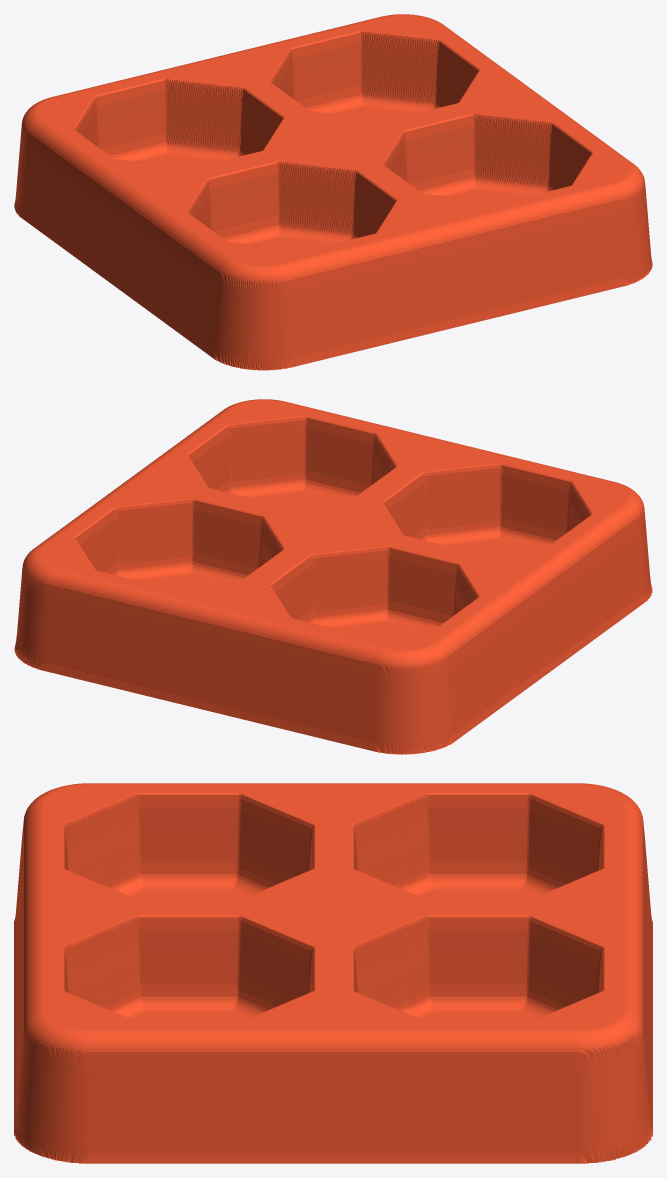
The model's file is mold.glb.
3 renders of one model, top to bottom at view 1: azimuth 30°, elevation 25°; view 2: azimuth 150°, elevation 25°; view 3: azimuth 270°, elevation 25°, orthographic. The views are drawn at different scales.
Parts seen in each view (by area): view 1: geometry_0; view 2: geometry_0; view 3: geometry_0.
Part boxes in pixels (box(x1,y1,x2,y2)): geometry_0: box(14, 14, 652, 370); geometry_0: box(14, 399, 652, 754); geometry_0: box(14, 783, 652, 1163).
Bounding box in the file's own units: 0.076 × 0.0159 × 0.076.
